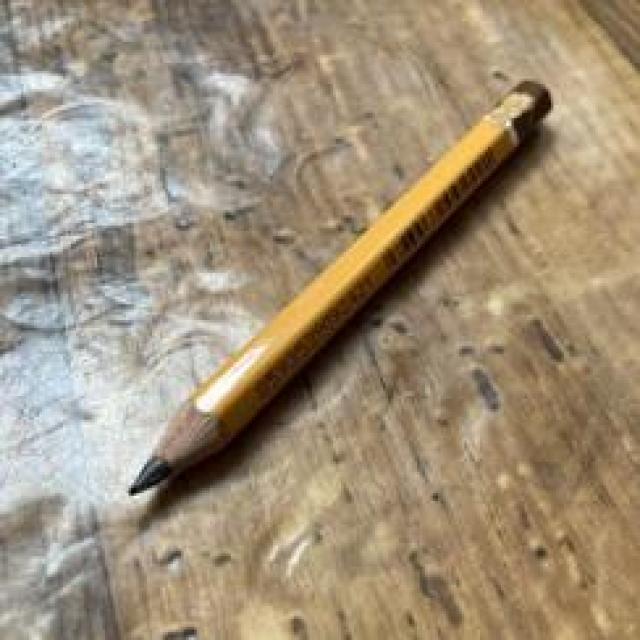pencil: (105, 41, 594, 534)
